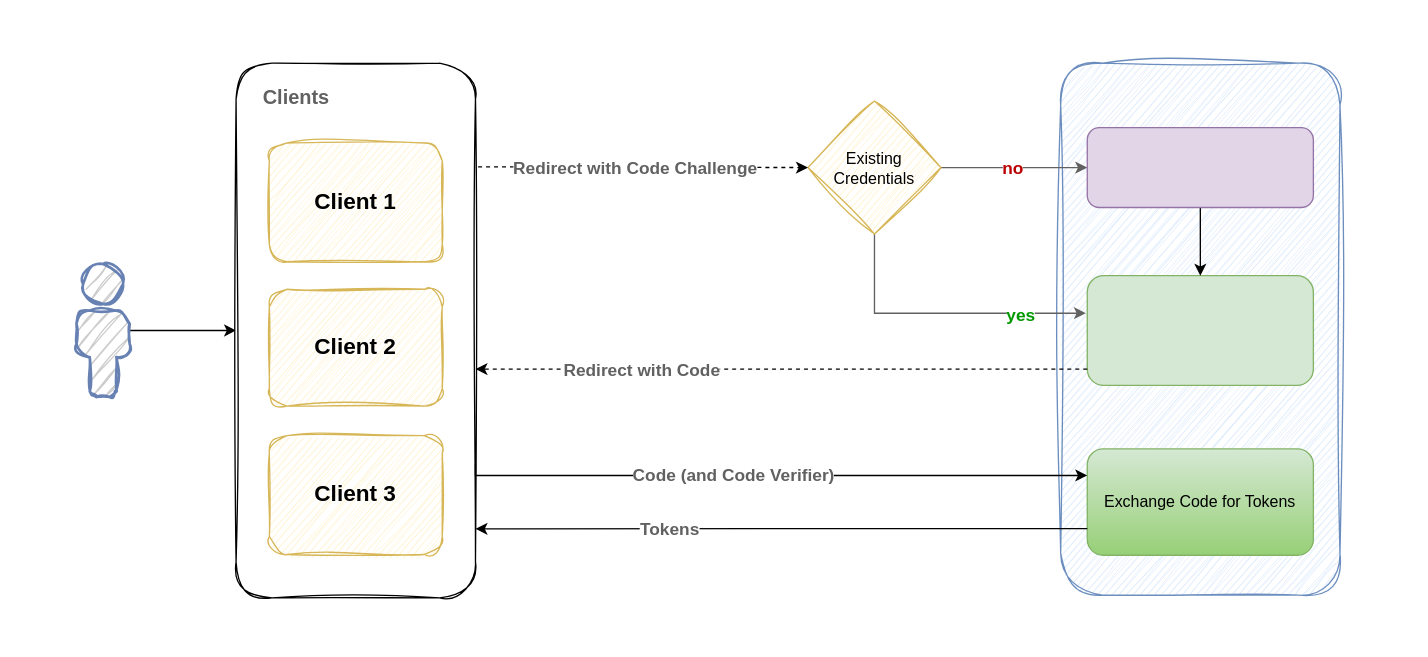
Image size: 1428x657. Some labels were removed from this diagram. The shapes that lost their labels are listed below. From the top down, each one's box as (x1, y1, x2, y2) in pixels, then its label:
(1086, 126, 1313, 207): Login
(1059, 62, 1340, 595): SSO Identity Broker
(1086, 274, 1313, 385): Generate Credentials
